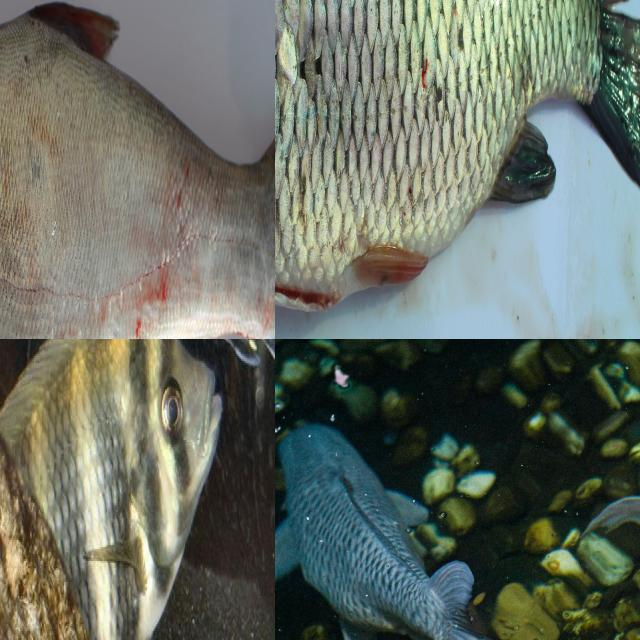fish: (275, 0, 640, 339), (0, 0, 275, 339), (279, 506, 640, 640), (76, 339, 275, 387)
